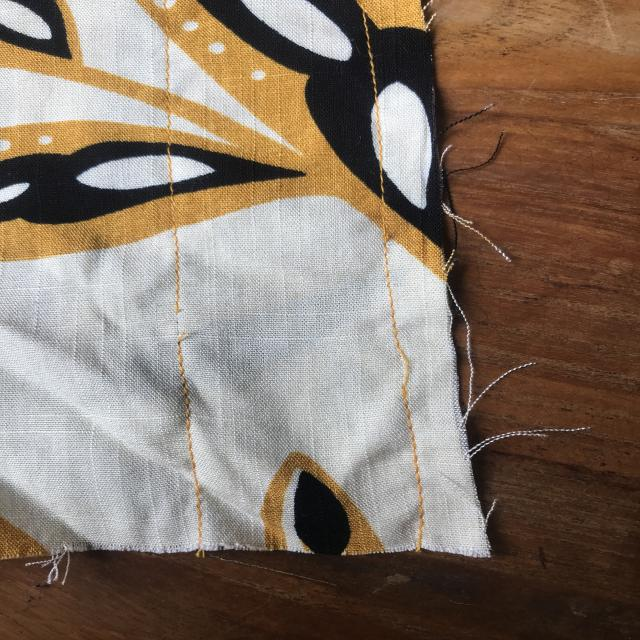broken: (151, 297, 209, 362)
skip: (372, 334, 434, 404)
